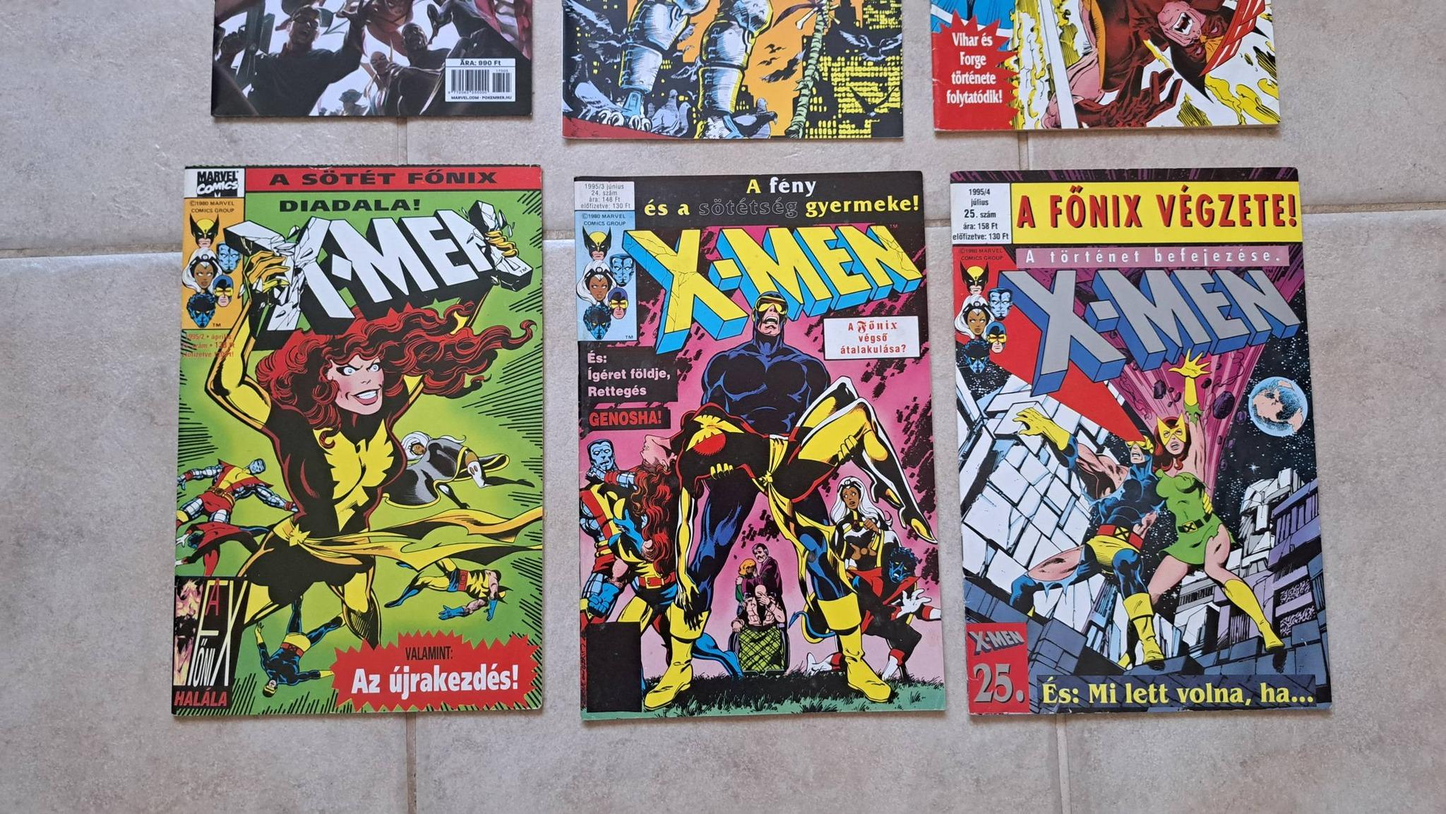comic: (945, 156, 1331, 722), (572, 171, 943, 718), (172, 167, 543, 714)
